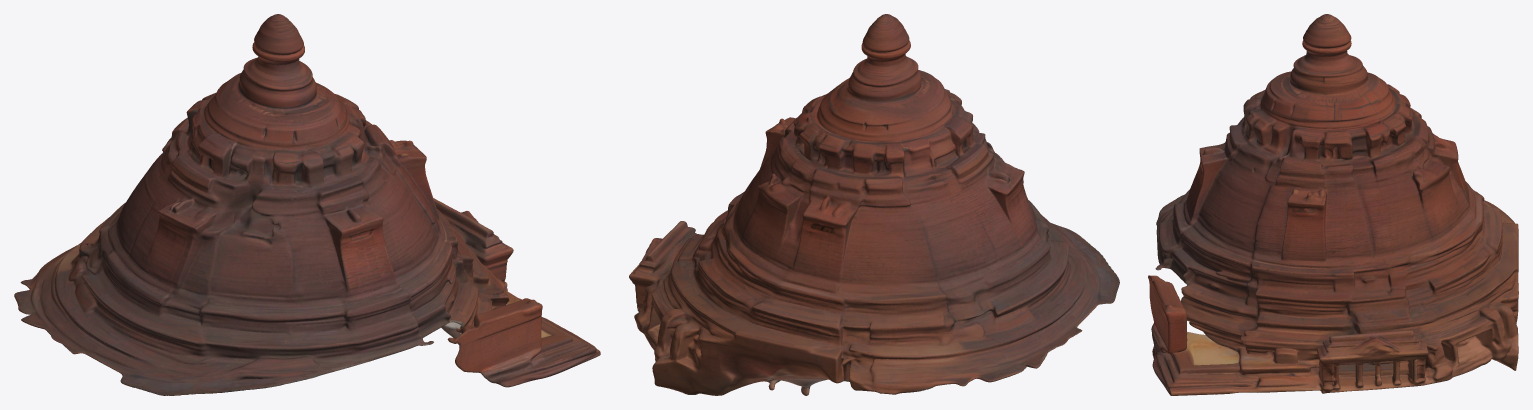
The model's file is nalanda_ruins.glb.
3 renders of one model, left to right at view 1: azimuth 30°, elevation 25°; view 2: azimuth 150°, elevation 25°; view 3: azimuth 270°, elevation 25°, orthographic. The views are drawn at different scales.
Parts seen in each view (by area): view 1: tripo_node_e1f1ab5b-8b6a-497c-993b-bb38afe35c42; view 2: tripo_node_e1f1ab5b-8b6a-497c-993b-bb38afe35c42; view 3: tripo_node_e1f1ab5b-8b6a-497c-993b-bb38afe35c42.
Boxes of the visible parts, x1,y1,x2,y2 form: tripo_node_e1f1ab5b-8b6a-497c-993b-bb38afe35c42: [14, 14, 600, 395]; tripo_node_e1f1ab5b-8b6a-497c-993b-bb38afe35c42: [629, 14, 1119, 395]; tripo_node_e1f1ab5b-8b6a-497c-993b-bb38afe35c42: [1148, 14, 1518, 395].
Size of the model in its own units: 1 by 0.7638 by 0.8463.
Materials: 1 (1 with a texture image).
